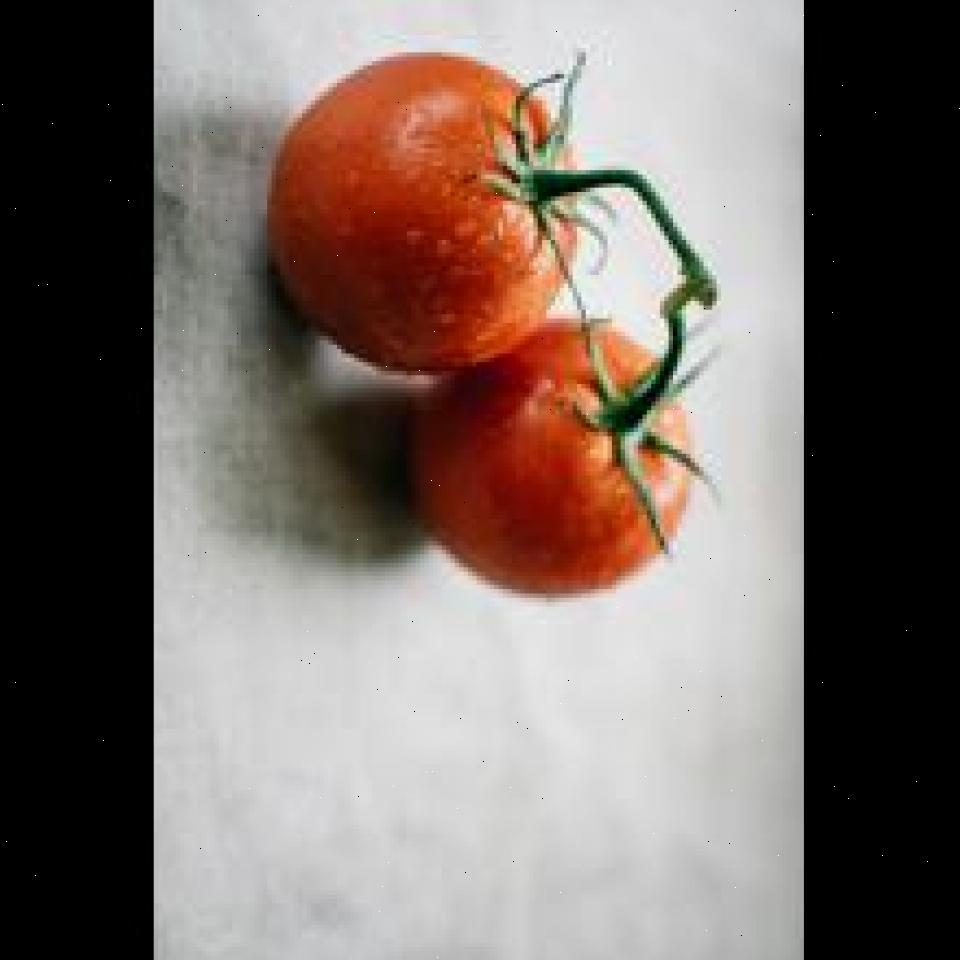Healthy: (260, 38, 600, 380), (404, 318, 712, 608)
